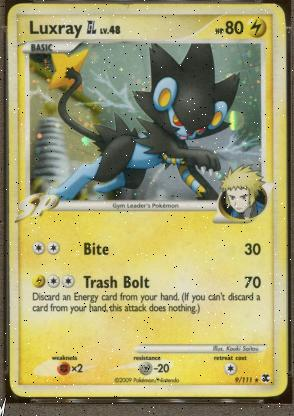Card: (5, 2, 287, 400)
